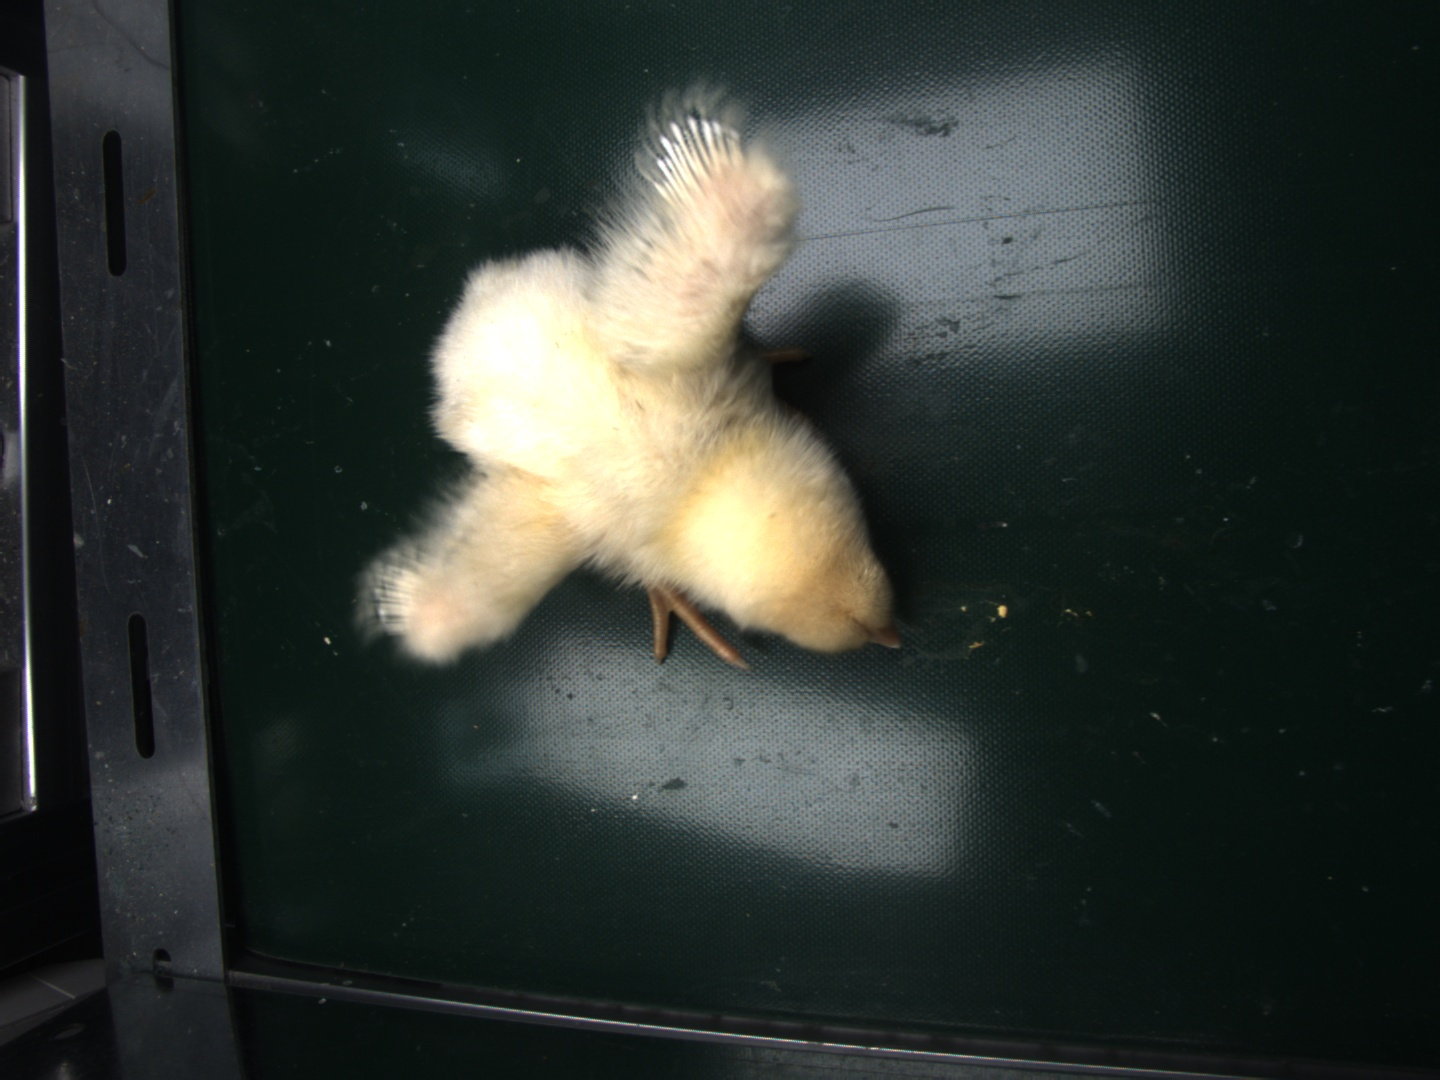male: (647, 109, 740, 199)
